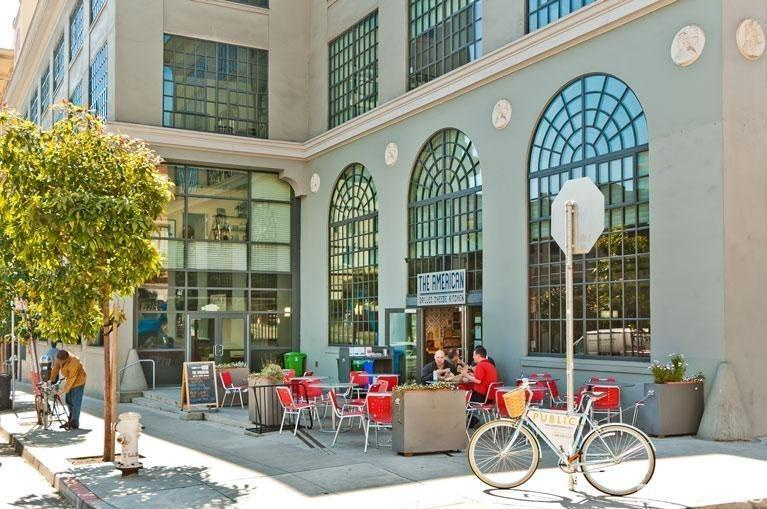non-vehicle: (464, 377, 656, 497), (34, 375, 71, 432)
